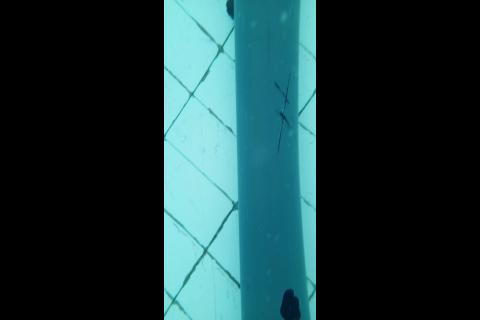kebocoran: (279, 286, 301, 320)
keretakan: (274, 72, 291, 151)
